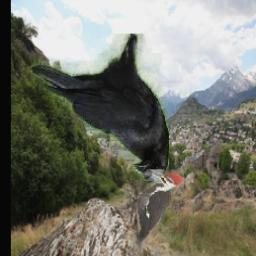Crow: (31, 34, 169, 181)
Woodpecker: (125, 169, 185, 256)
